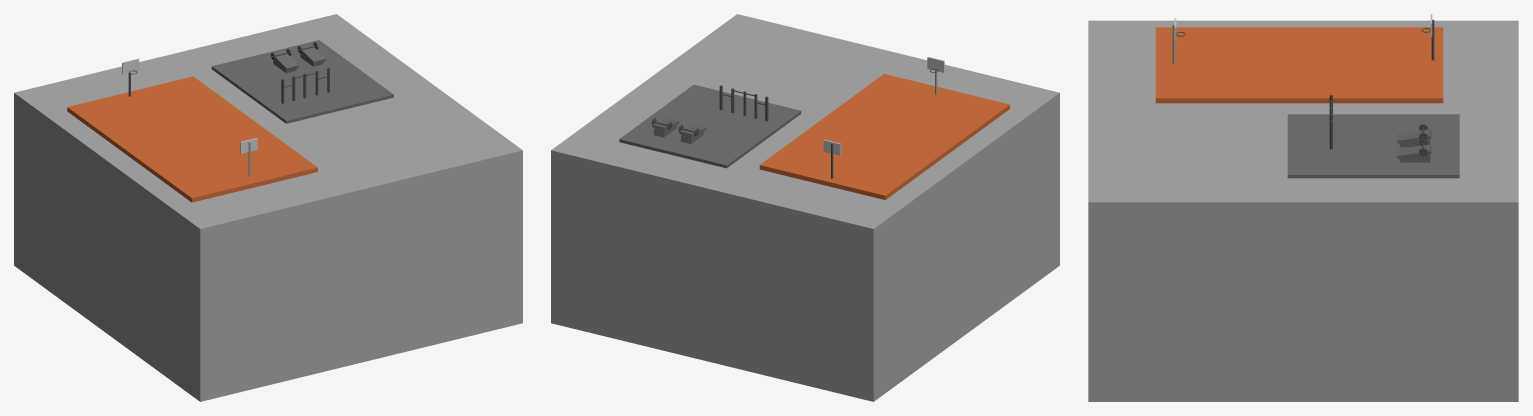
The model's file is Park2.fbx.
3 views of the same model, side by side, from view 1: azimuth 30°, elevation 25°; view 2: azimuth 150°, elevation 25°; view 3: azimuth 270°, elevation 25° (orthographic). The views are drawn at different scales.
Parts seen in each view (by area): view 1: pCube105, bball_court, gym_floor; view 2: pCube105, bball_court, gym_floor; view 3: pCube105, bball_court, gym_floor, pCube112 (×2).
Boxes of the visible parts, x1,y1,x2,y2 form: pCube105: [14, 14, 522, 401]; bball_court: [67, 76, 317, 202]; gym_floor: [211, 40, 393, 123]; pCube105: [551, 14, 1059, 401]; bball_court: [759, 74, 1009, 199]; gym_floor: [619, 84, 801, 168]; pCube105: [1088, 20, 1518, 401]; bball_court: [1155, 27, 1443, 103]; gym_floor: [1287, 114, 1459, 178]; pCube112 (×2): [1397, 129, 1431, 162].
Size of the model in its own units: 1 by 0.6312 by 1.
